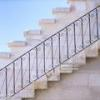stairs: (15, 43, 100, 99)
